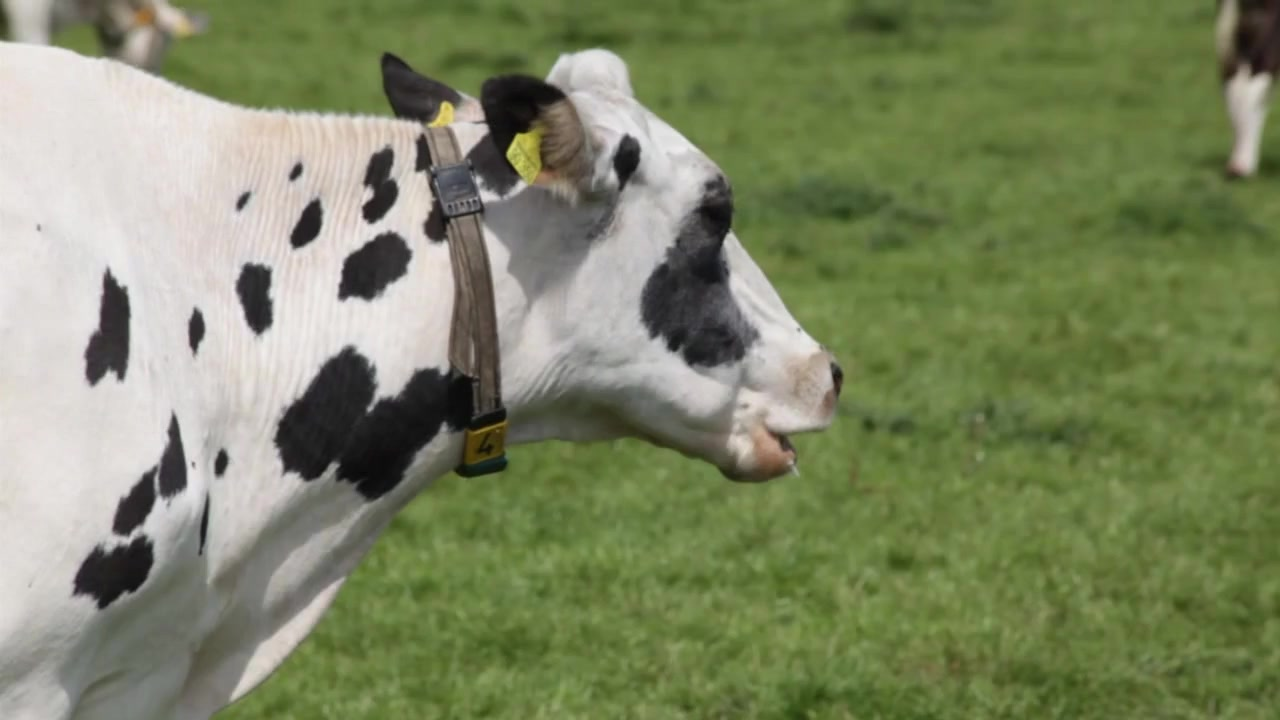cow: (2, 46, 845, 720)
